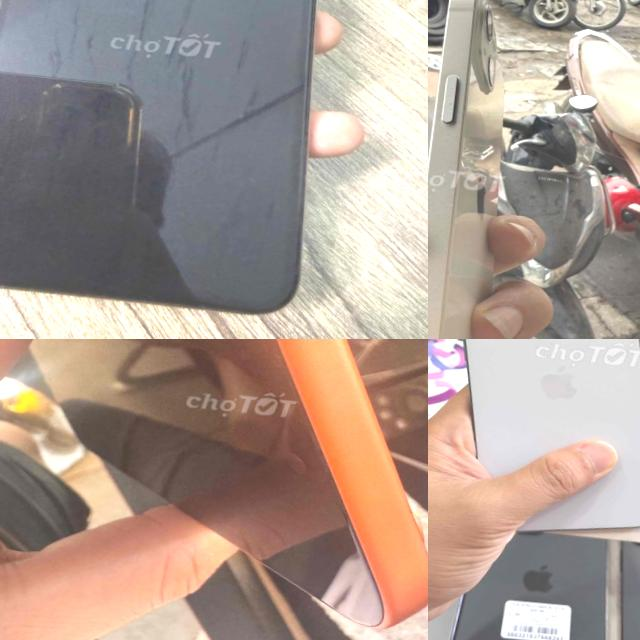gen_12_13: (428, 0, 530, 339)
gen_17: (39, 339, 428, 627), (428, 339, 640, 541)
gen_x_xs: (0, 0, 367, 323)
